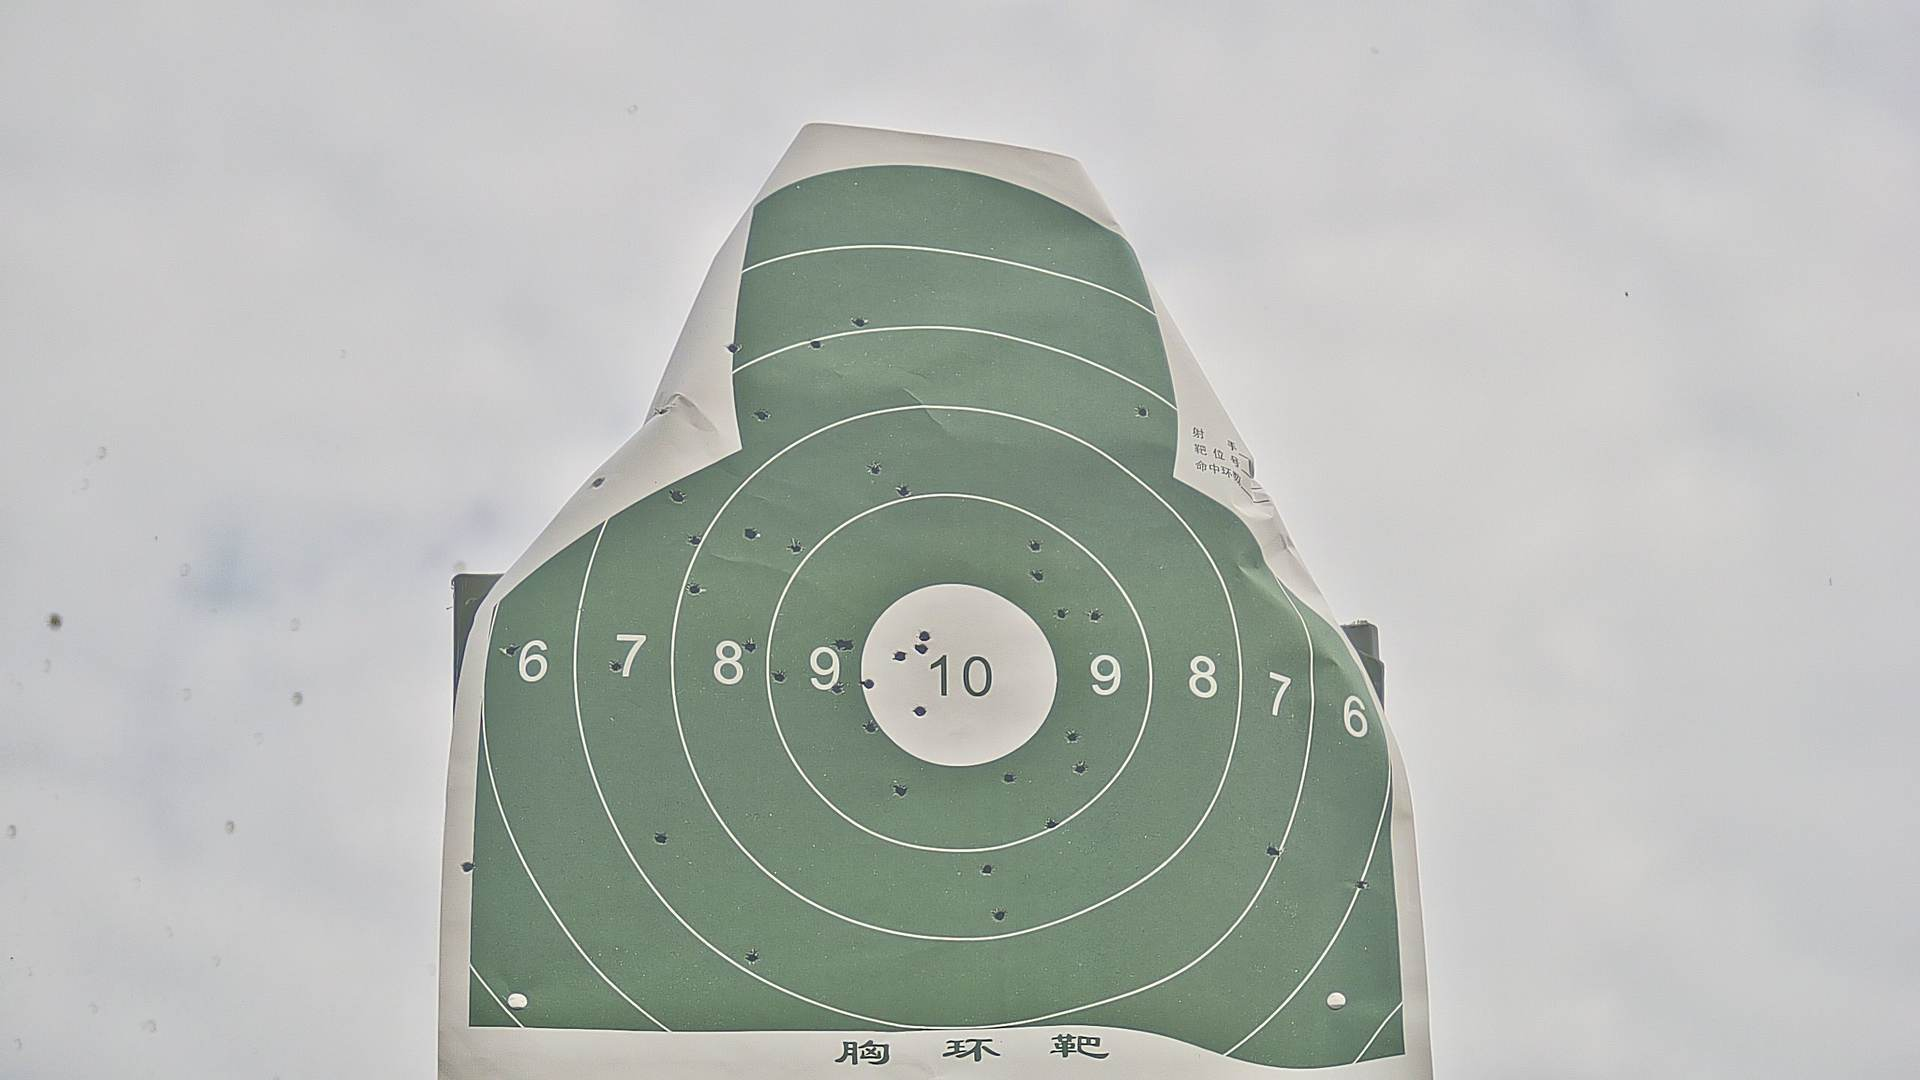hole: (1072, 760, 1088, 777), (1044, 818, 1060, 833), (1029, 537, 1043, 554), (687, 533, 705, 546), (650, 831, 669, 844), (1088, 607, 1102, 622), (745, 640, 760, 654), (607, 659, 622, 673), (1002, 770, 1015, 786), (591, 475, 607, 488), (771, 669, 789, 680), (829, 684, 847, 696), (745, 949, 760, 963), (918, 629, 932, 642), (914, 704, 928, 717), (993, 909, 1006, 923), (853, 316, 870, 327), (502, 642, 516, 655), (915, 641, 928, 654), (862, 719, 876, 732), (745, 526, 757, 541), (893, 785, 907, 796), (757, 410, 770, 422), (688, 583, 702, 595), (1033, 568, 1044, 582), (1056, 607, 1068, 620), (861, 676, 876, 687), (1065, 729, 1080, 740), (1266, 845, 1280, 856), (462, 861, 476, 872), (833, 637, 845, 649), (843, 638, 855, 650), (808, 339, 822, 349), (673, 488, 683, 501), (899, 484, 913, 495), (1356, 880, 1369, 890), (789, 542, 800, 553), (894, 650, 905, 662), (982, 862, 992, 876), (729, 342, 738, 353), (872, 463, 881, 475), (1139, 407, 1149, 415)
kernel: (953, 676, 959, 680)
target: (469, 170, 1406, 1073)
ten: (862, 585, 1059, 765)
